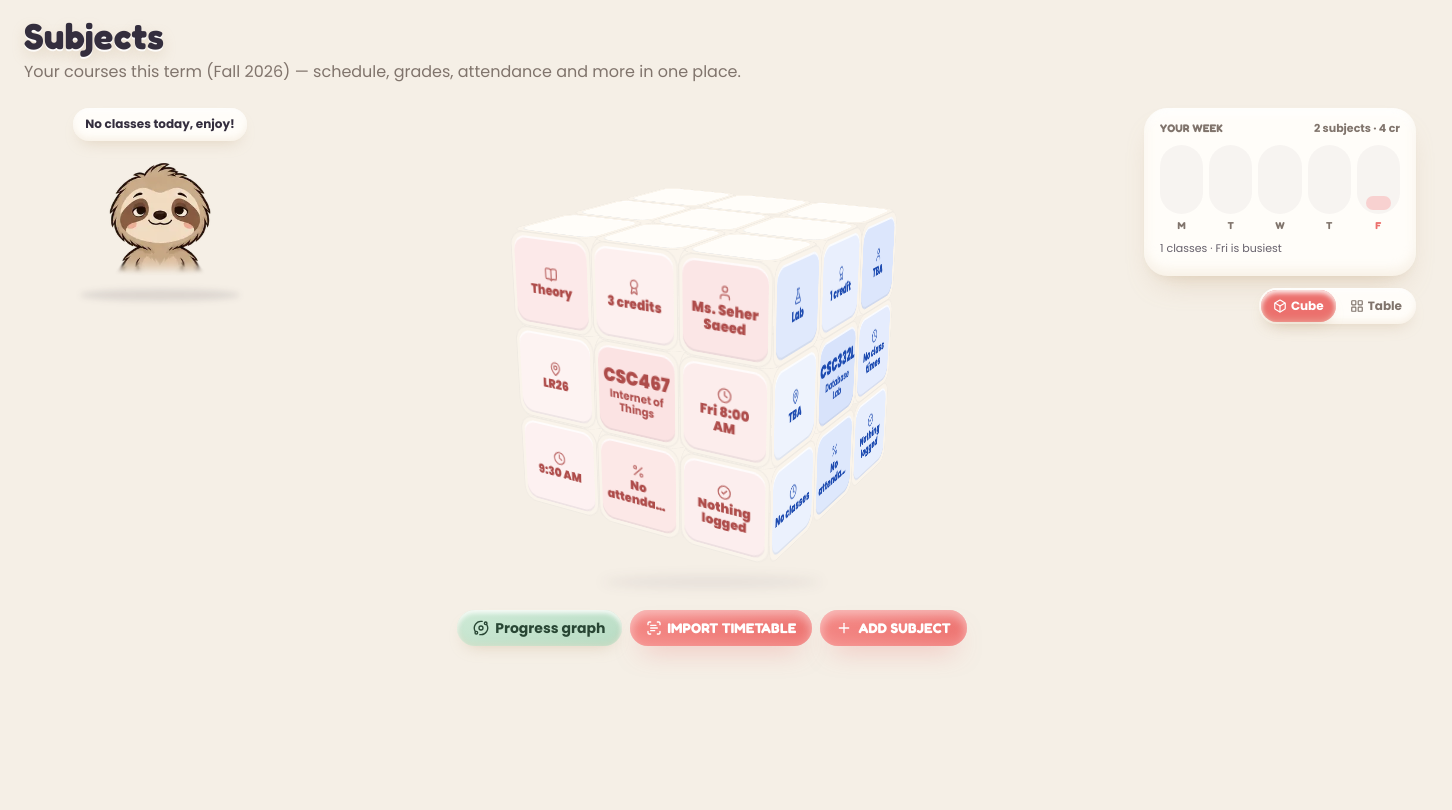
Scenario: choosing Table shows the periodic table with its key, hides the cube, and the choice is saved
What coordinates should you click on to do the following:
click the radio button labelled "Table"
I would click on:
 (1376, 306)
Its box is [1338,290,1414,322].
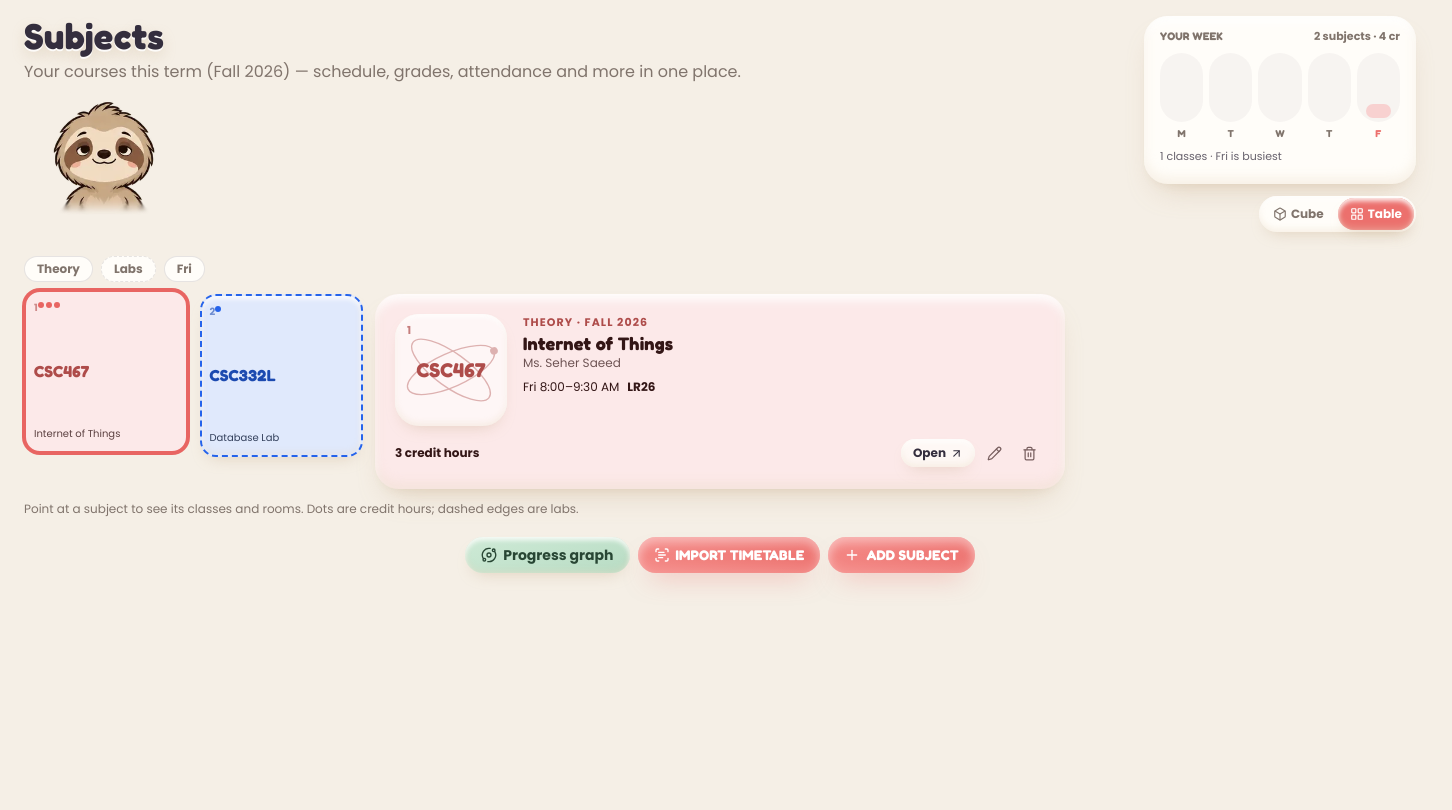
Expected: the element with test id "rubik" is gone
Expected: the element with test id "mascot-corner" is gone
Expected: the list named "Filter subjects" is shown, [24,256,205,282]
